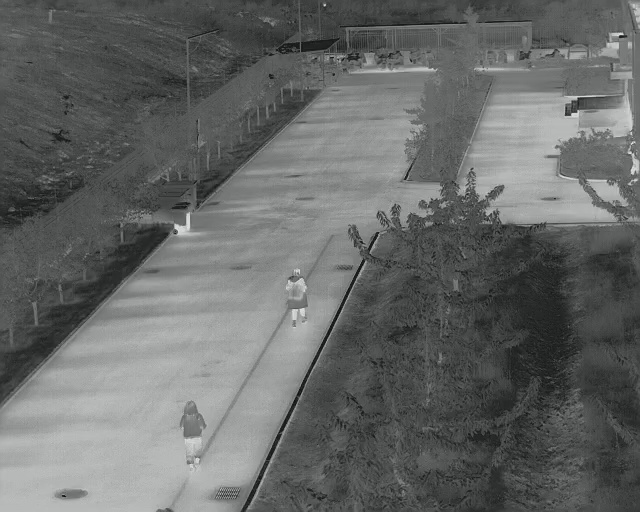person: (178, 400, 209, 474), (282, 266, 312, 330)
